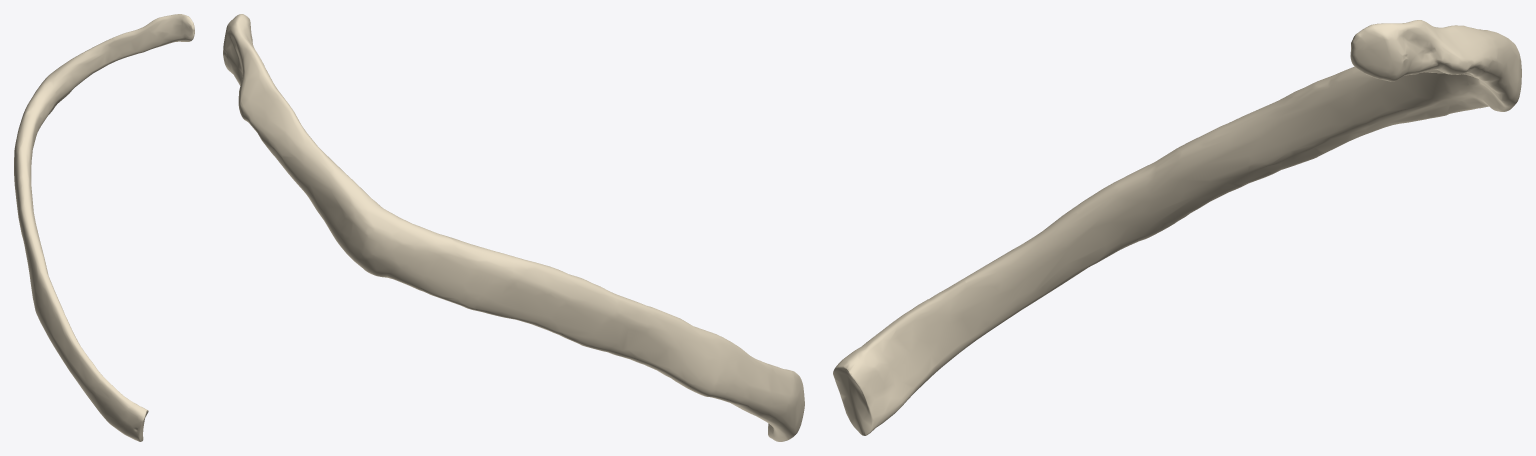
Rendered from eighth-rib-r.glb.
3 renders of one model, left to right at view 1: azimuth 30°, elevation 25°; view 2: azimuth 150°, elevation 25°; view 3: azimuth 270°, elevation 25°, orthographic. The views are drawn at different scales.
Visible parts, largest first — view 1: Eighth rib.r; view 2: Eighth rib.r; view 3: Eighth rib.r.
Part boxes in pixels (left/top/right/bottom): Eighth rib.r: left=14, top=14, right=194, bottom=441; Eighth rib.r: left=223, top=14, right=804, bottom=441; Eighth rib.r: left=833, top=20, right=1521, bottom=435.
Size of the model in its own units: 0.1179 by 0.1515 by 0.1634.
